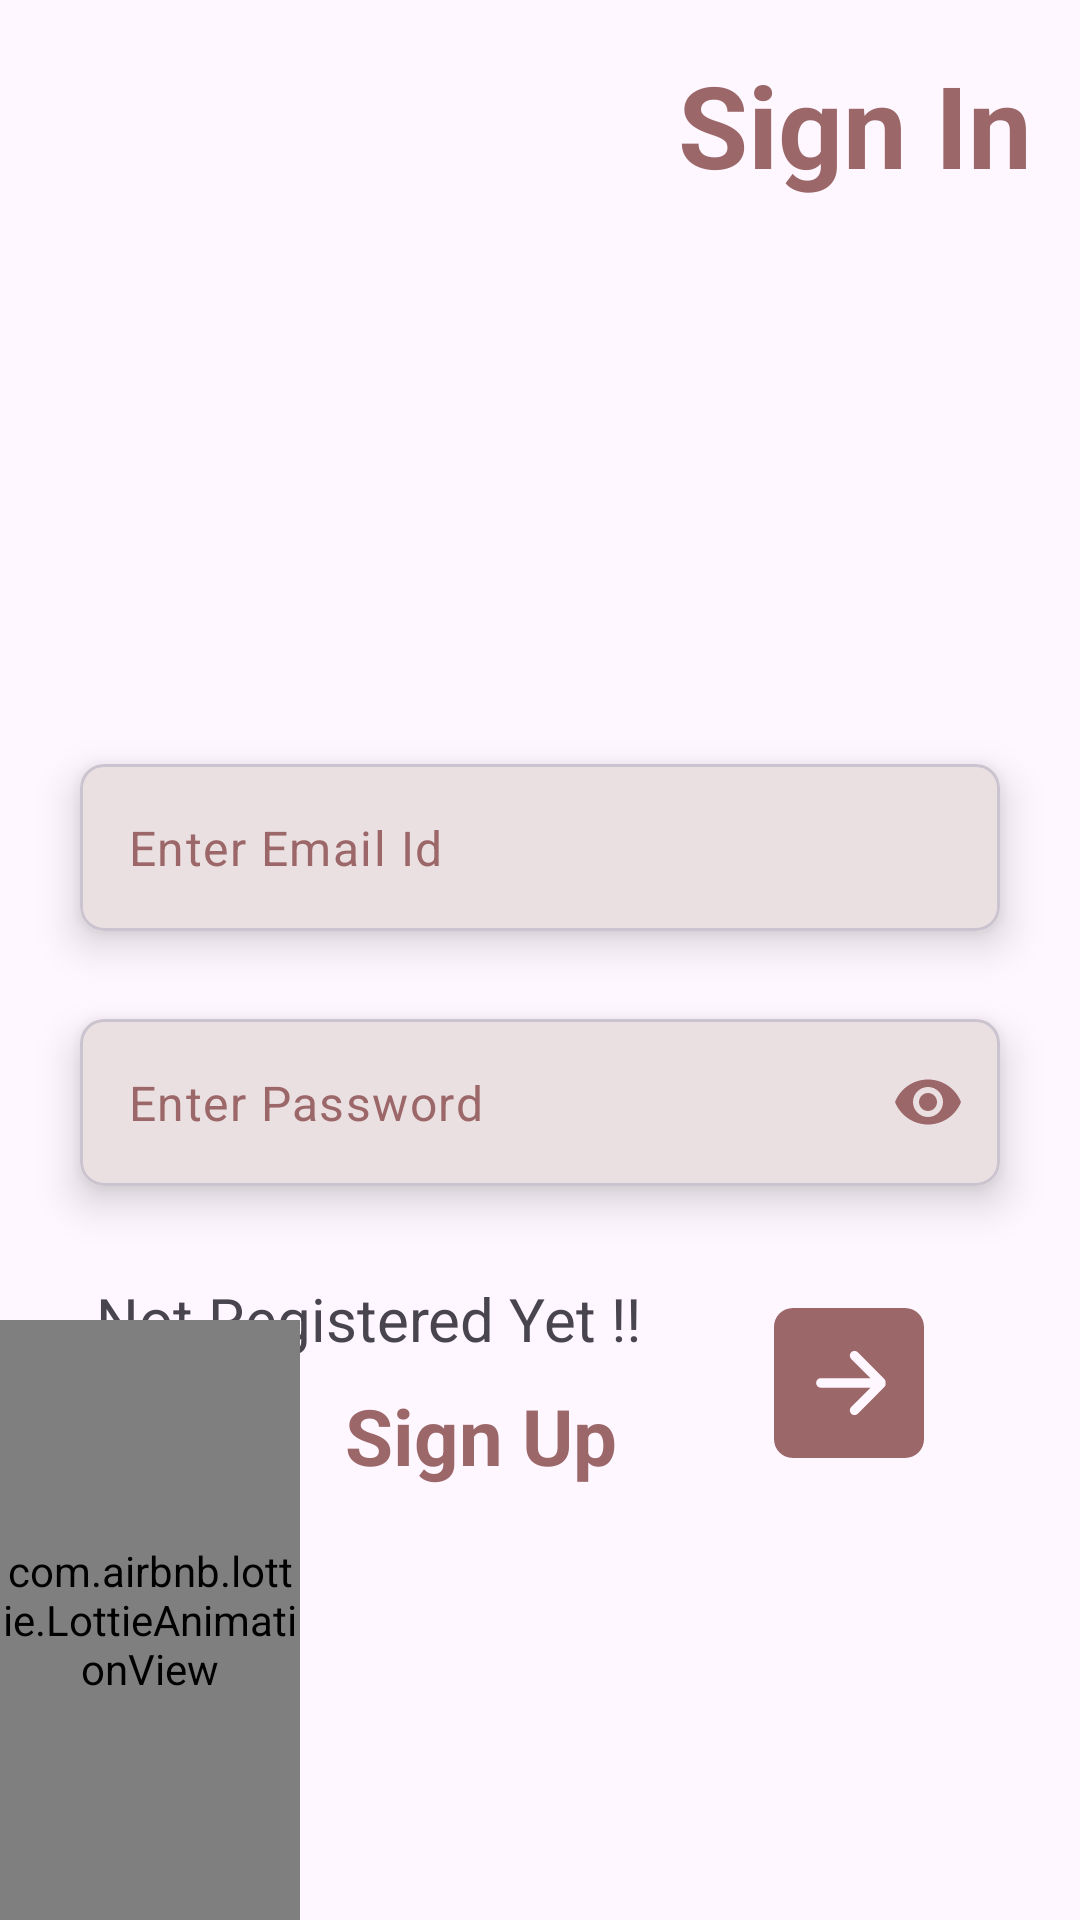

Where to tap for icons on this 1080x1920 app screen, as point (x, y):
arrow right: point (849, 1383)
